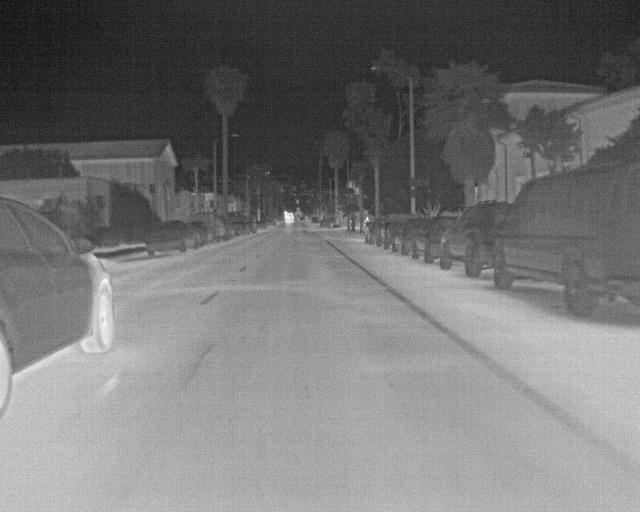car: (0, 194, 118, 423), (492, 158, 639, 317), (440, 200, 510, 278), (412, 214, 459, 265), (144, 219, 198, 256), (393, 217, 427, 257), (191, 221, 221, 244), (379, 221, 400, 252), (363, 221, 385, 247), (214, 221, 234, 241), (234, 217, 252, 236), (319, 220, 331, 230), (257, 221, 267, 230)
